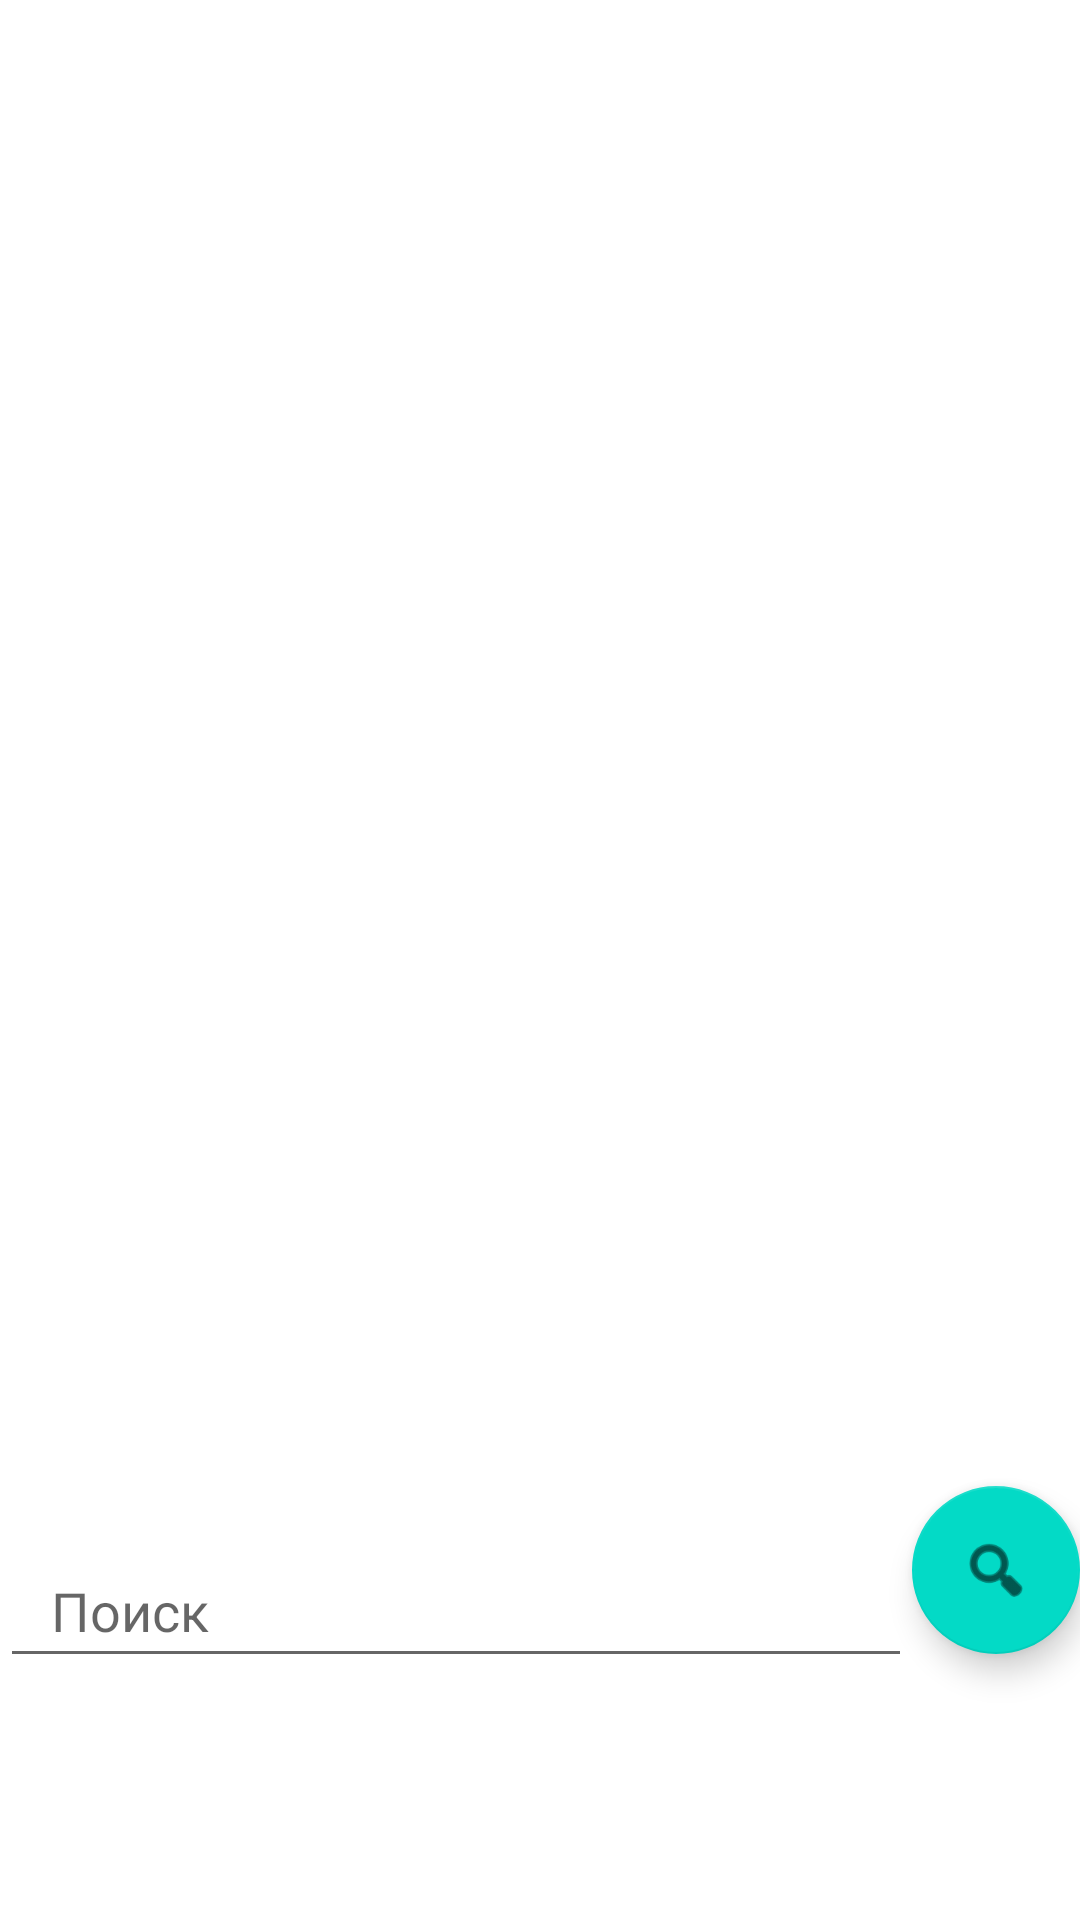

Icon bounding boxes for this 1080x1920 phone screenshot, format bbox(x1, y1, x2, y2):
Search: bbox(912, 1486, 1080, 1654)
